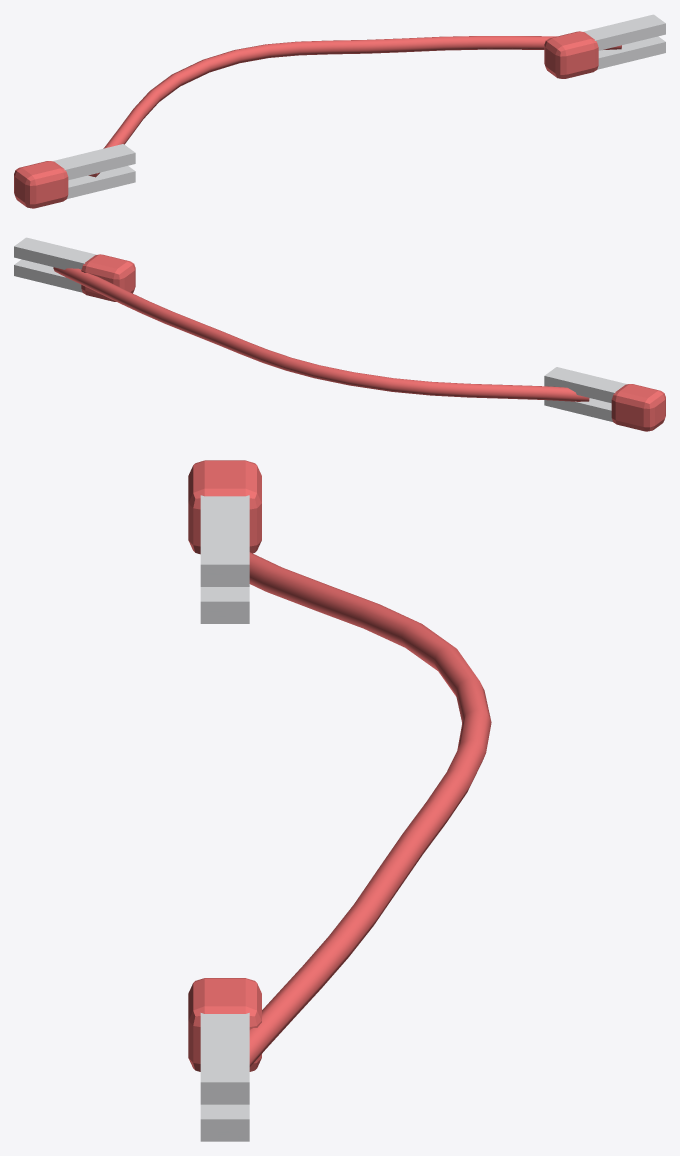
Rendered from wire_red.glb.
3 views of the same model, one above another, from view 1: azimuth 30°, elevation 25°; view 2: azimuth 150°, elevation 25°; view 3: azimuth 270°, elevation 25° (orthographic). The views are drawn at different scales.
Visible parts, largest first — view 1: wire, wire_clipA_sleeve, wire_clipB_sleeve, wire_clipA_jaw_a, wire_clipB_jaw_a, wire_clipA_jaw_b, wire_clipB_jaw_b; view 2: wire, wire_clipA_sleeve, wire_clipB_jaw_a, wire_clipA_jaw_a, wire_clipB_sleeve, wire_clipB_jaw_b, wire_clipA_jaw_b; view 3: wire, wire_clipB_jaw_a, wire_clipA_jaw_a, wire_clipA_sleeve, wire_clipB_sleeve, wire_clipB_jaw_b, wire_clipA_jaw_b.
Part boxes in pixels (bbox=[...]): wire: bbox=[88, 36, 621, 177]; wire_clipA_sleeve: bbox=[14, 161, 68, 208]; wire_clipB_sleeve: bbox=[544, 31, 598, 78]; wire_clipA_jaw_a: bbox=[52, 144, 135, 180]; wire_clipB_jaw_a: bbox=[583, 14, 665, 50]; wire_clipA_jaw_b: bbox=[67, 166, 135, 198]; wire_clipB_jaw_b: bbox=[597, 36, 665, 69]; wire: bbox=[53, 267, 589, 401]; wire_clipA_sleeve: bbox=[611, 384, 665, 431]; wire_clipB_jaw_a: bbox=[14, 237, 96, 269]; wire_clipA_jaw_a: bbox=[544, 367, 627, 403]; wire_clipB_sleeve: bbox=[81, 254, 135, 301]; wire_clipB_jaw_b: bbox=[14, 259, 82, 292]; wire_clipA_jaw_b: bbox=[544, 398, 612, 421]; wire: bbox=[249, 552, 491, 1067]; wire_clipB_jaw_a: bbox=[200, 1013, 249, 1104]; wire_clipA_jaw_a: bbox=[200, 495, 249, 586]; wire_clipA_sleeve: bbox=[188, 460, 261, 554]; wire_clipB_sleeve: bbox=[188, 978, 261, 1071]; wire_clipB_jaw_b: bbox=[200, 1104, 249, 1141]; wire_clipA_jaw_b: bbox=[200, 587, 249, 623].
Bounding box in the file's own units: 0.181 × 0.0114 × 0.0371.
